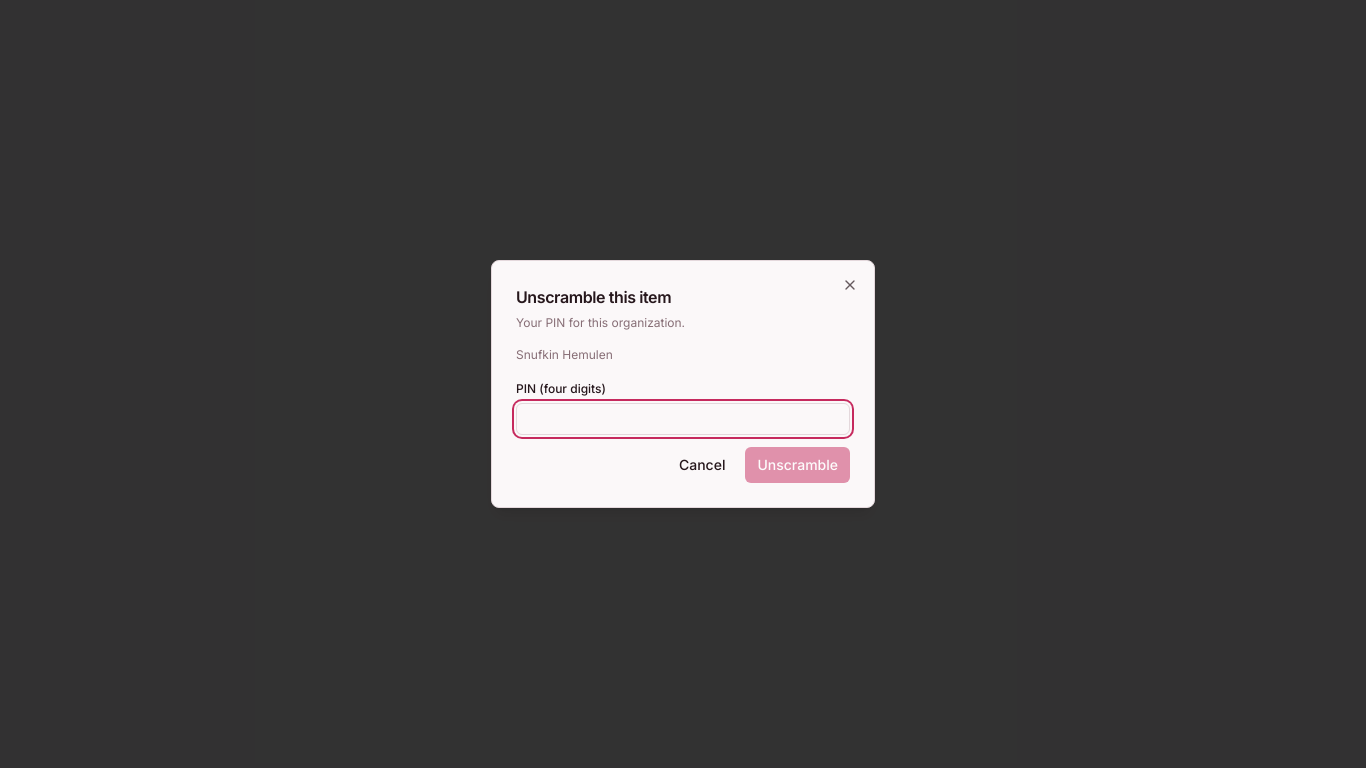
Test: scramble PIN dialog › shows a wrong PIN as an error and clears the field, staying open
In the password field labelled "PIN (four digits)": coordinates (683, 419) [516, 403, 850, 435], type "0000"
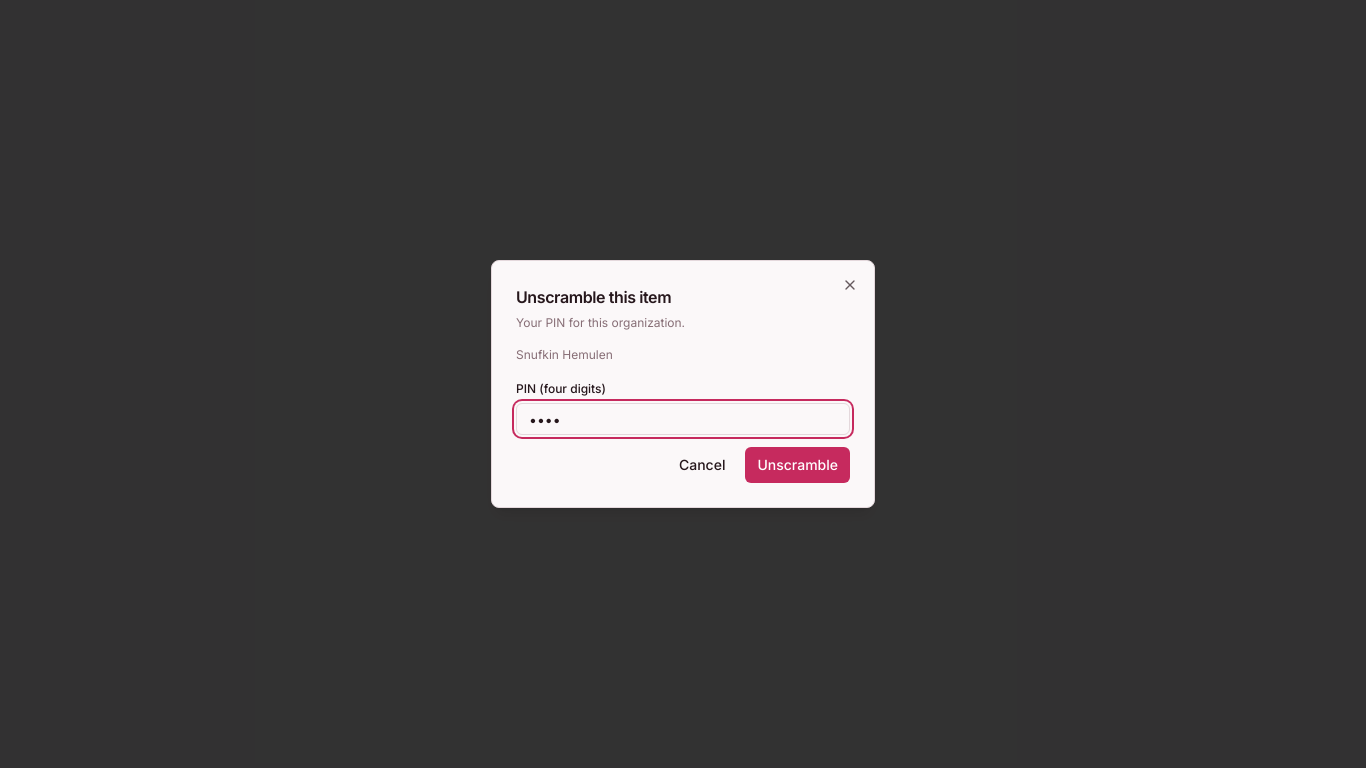
Click the button "Unscramble": coordinates (798, 465) [746, 447, 850, 483]
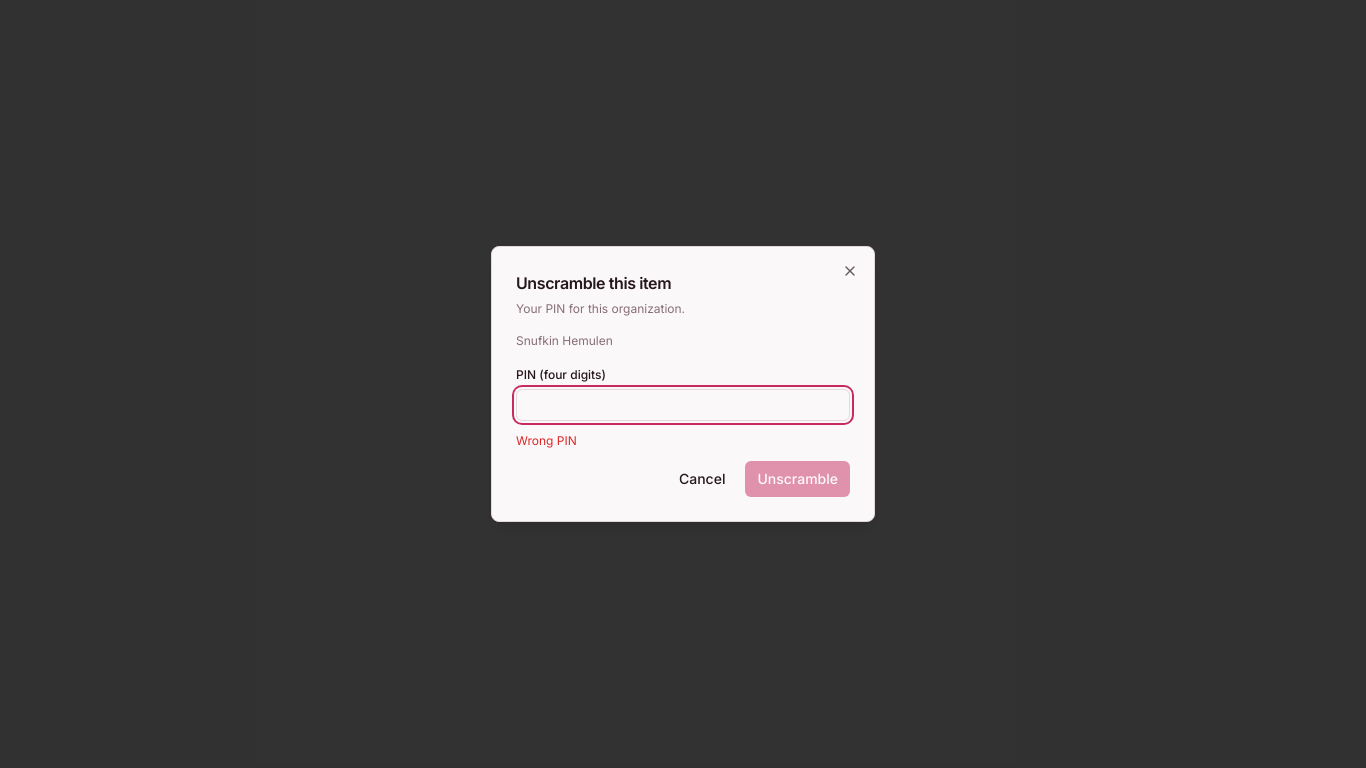
Now the message reads "Wrong PIN", box [516, 433, 577, 448]
Now the password field labelled "PIN (four digits)" is empty, box [516, 389, 850, 421]
